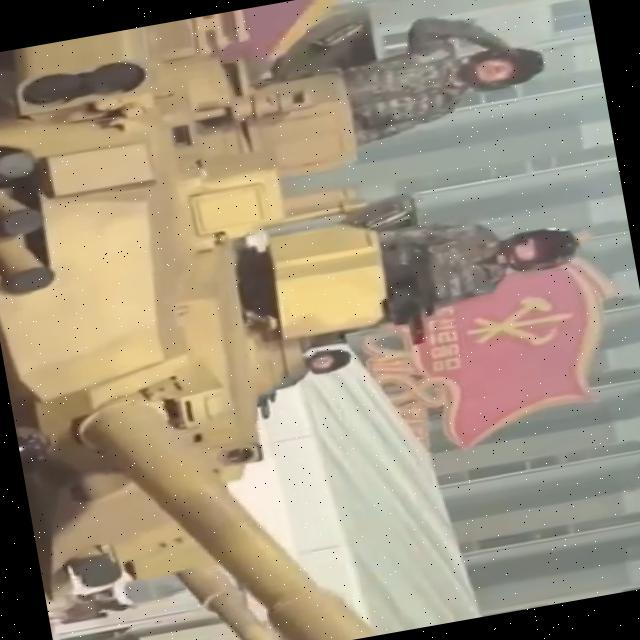north tank: (0, 102, 452, 640)
